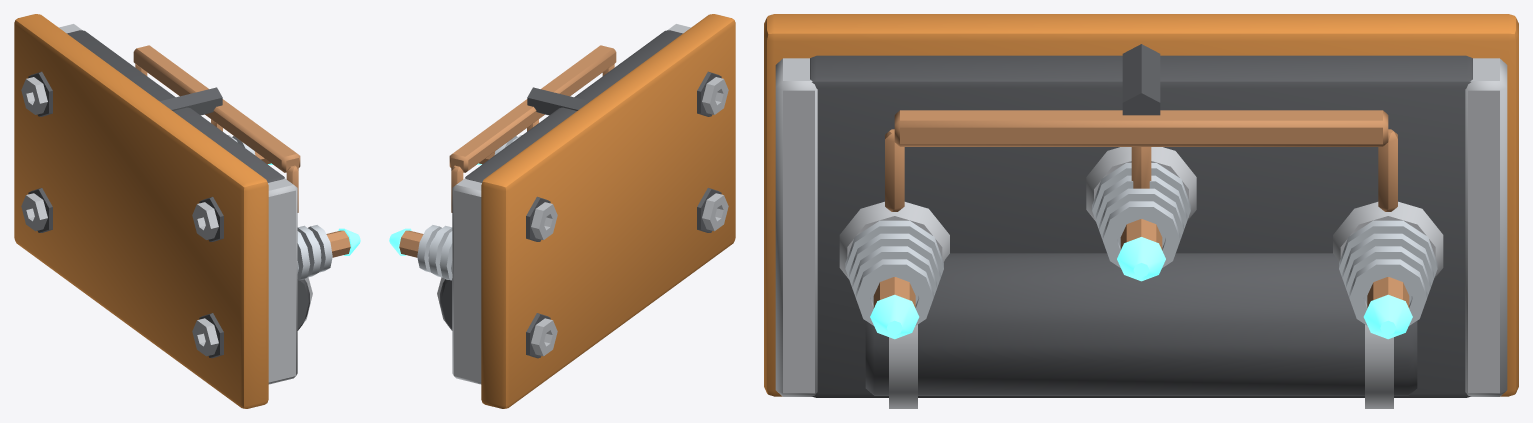
File: shock_prod.glb
3 views of the same model, side by side, from view 1: azimuth 30°, elevation 25°; view 2: azimuth 150°, elevation 25°; view 3: azimuth 270°, elevation 25° (orthographic). The views are drawn at different scales.
Visible parts, largest first — view 1: body; view 2: body; view 3: body.
Boxes of the visible parts, x1,y1,x2,y2 form: body: (14, 14, 360, 408); body: (389, 14, 735, 408); body: (764, 14, 1518, 408).
Bounding box in the file's own units: 0.1079 × 0.14 × 0.26.
